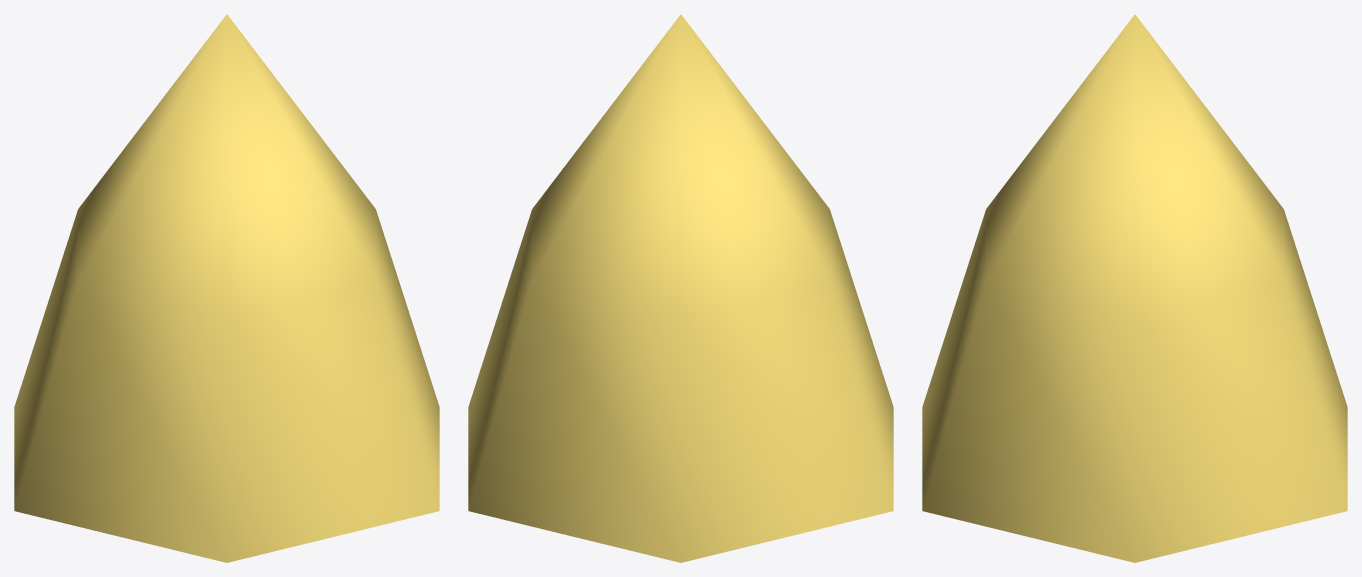
The model's file is fx_flame.obj.
The picture shows the model from 3 angles, left to right: view 1: azimuth 30°, elevation 25°; view 2: azimuth 150°, elevation 25°; view 3: azimuth 270°, elevation 25°; orthographic projection.
Parts seen in each view (by area): view 1: fx_flame; view 2: fx_flame; view 3: fx_flame.
Part boxes in pixels (x1,y1,x2,y2): fx_flame: (14,14,439,562); fx_flame: (468,14,893,562); fx_flame: (922,14,1347,562).
Bounding box in the file's own units: 1 × 1 × 0.866.
